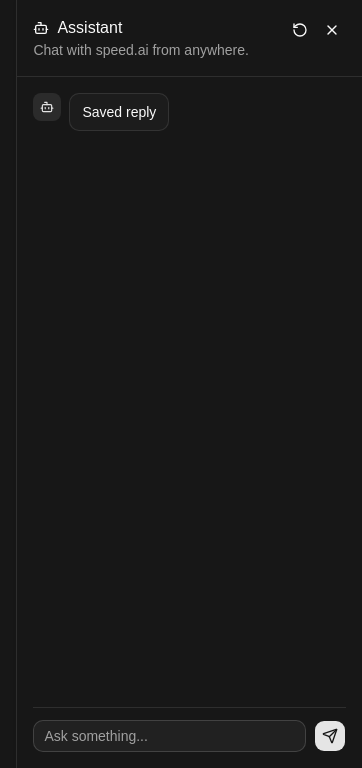
Test: GlobalAssistantSidebar › loads saved messages and sends a new message
Expected: the text "Saved reply" is shown, [69,93,169,131]
Type "What is due?" into the field with placeholder "Ask something..." at (170,736), box [33,720,306,752]
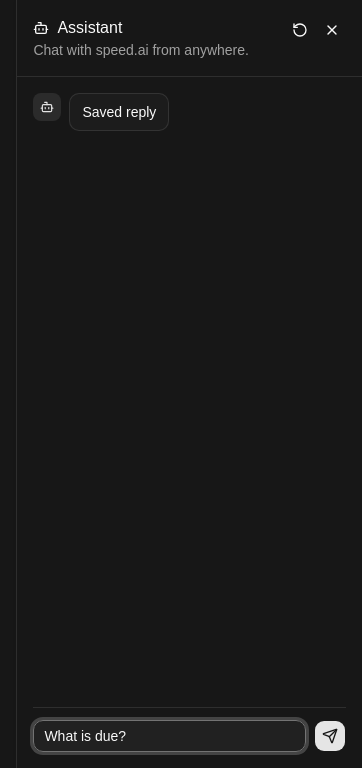
Click the button named "Send message" at (330,736), box [314,720,346,752]
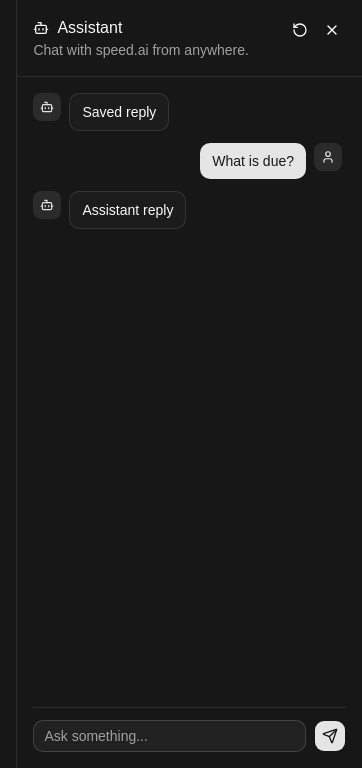
Now the text "What is due?" is shown, box [200,143,306,179]
Now the text "Assistant reply" is shown, box [69,191,186,229]
